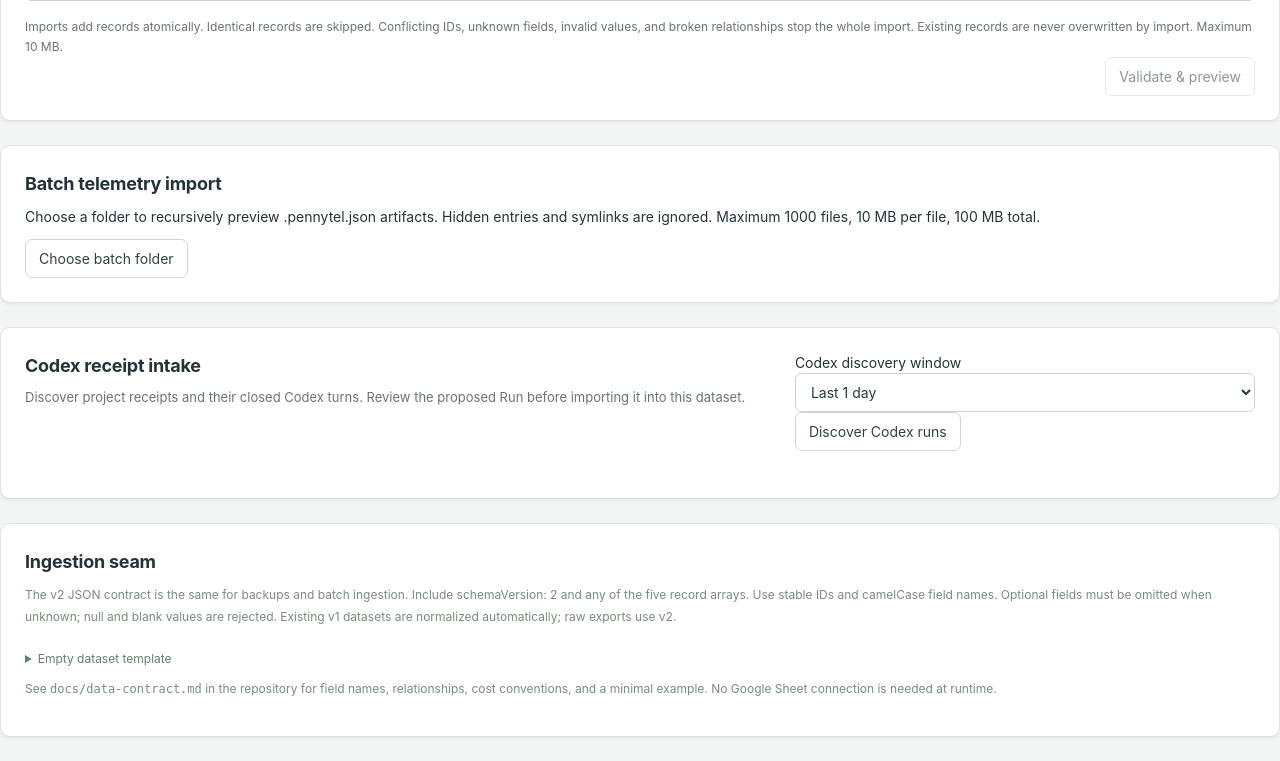
Scenario: offers only 1/3/5 days and keeps the reviewed window when the selector changes
(page scrolled)
Expected: the dropdown labelled "Codex discovery window" shows "Last 1 day", [795,373,1255,412]
Click the button "Discover Codex runs".
click(878, 431)  # box [795,412,961,451]
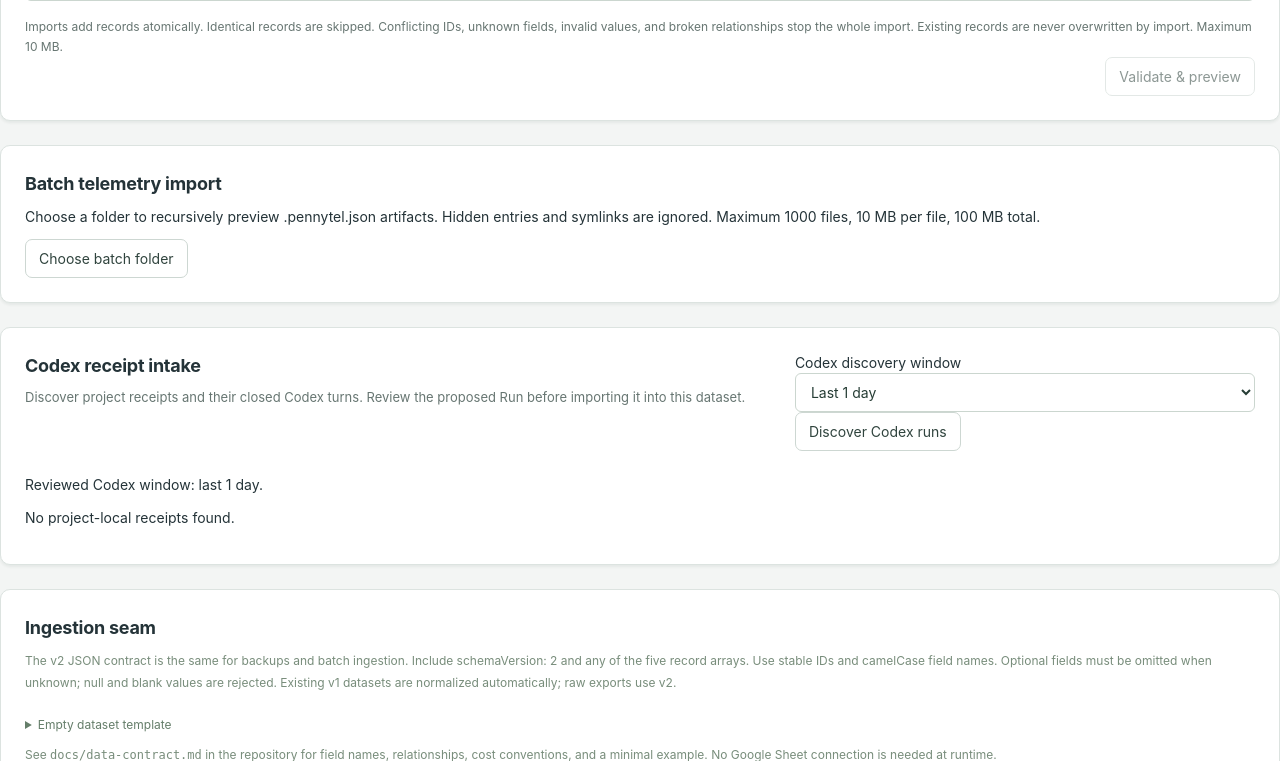
Select "Last 3 days" in the dropdown labelled "Codex discovery window" at (1025, 392), box [795,373,1255,412]
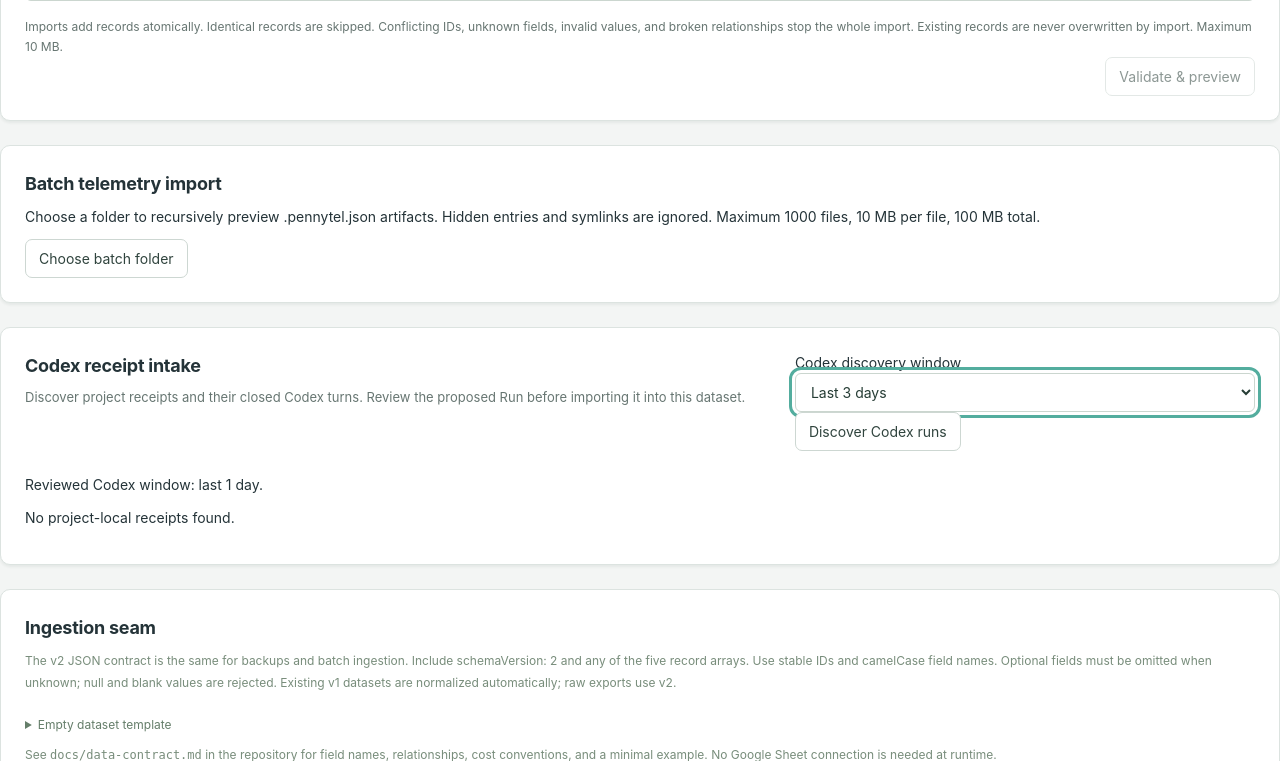
Now the text "Reviewed Codex window: last 1 day." is shown, box [25,476,263,493]
Click the button "Discover Codex runs".
click(878, 431)  # box [795,412,961,451]
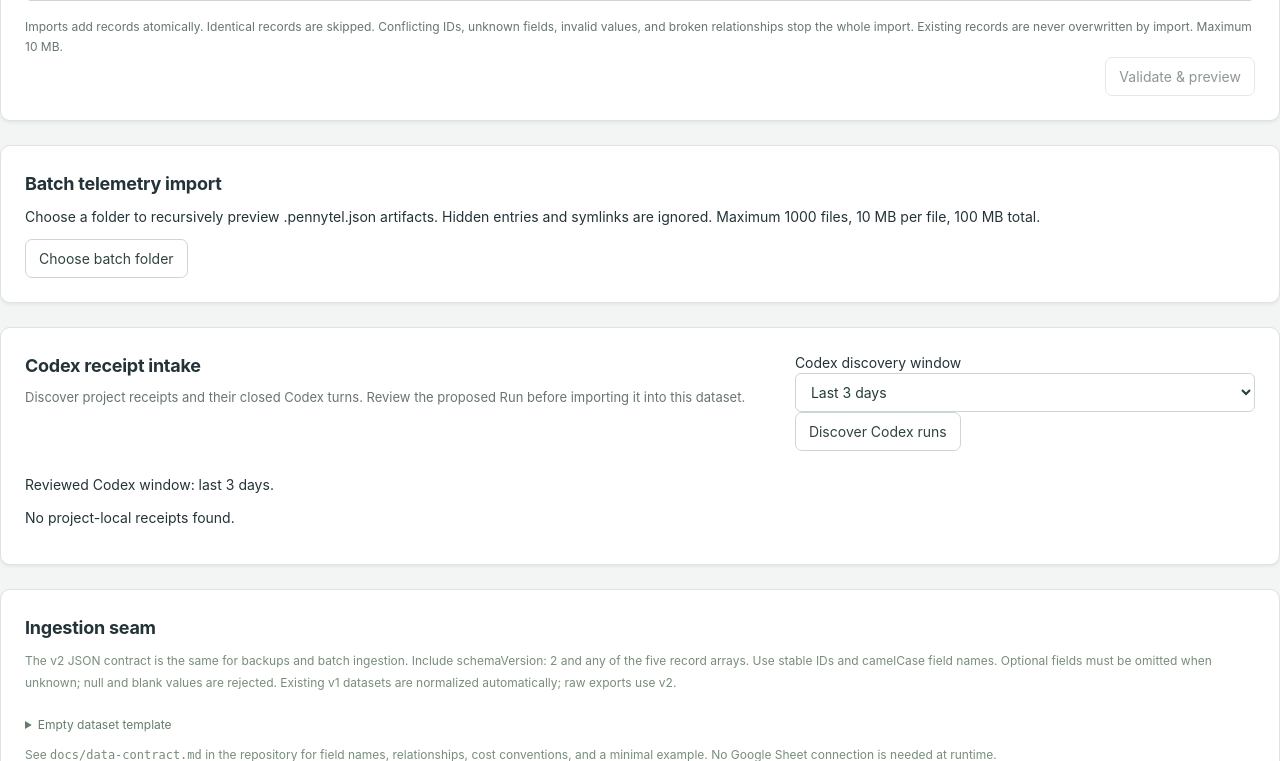
Now the text "Reviewed Codex window: last 3 days." is shown, box [25,476,274,493]
Select "Last 5 days" in the dropdown labelled "Codex discovery window" at (1025, 392), box [795,373,1255,412]
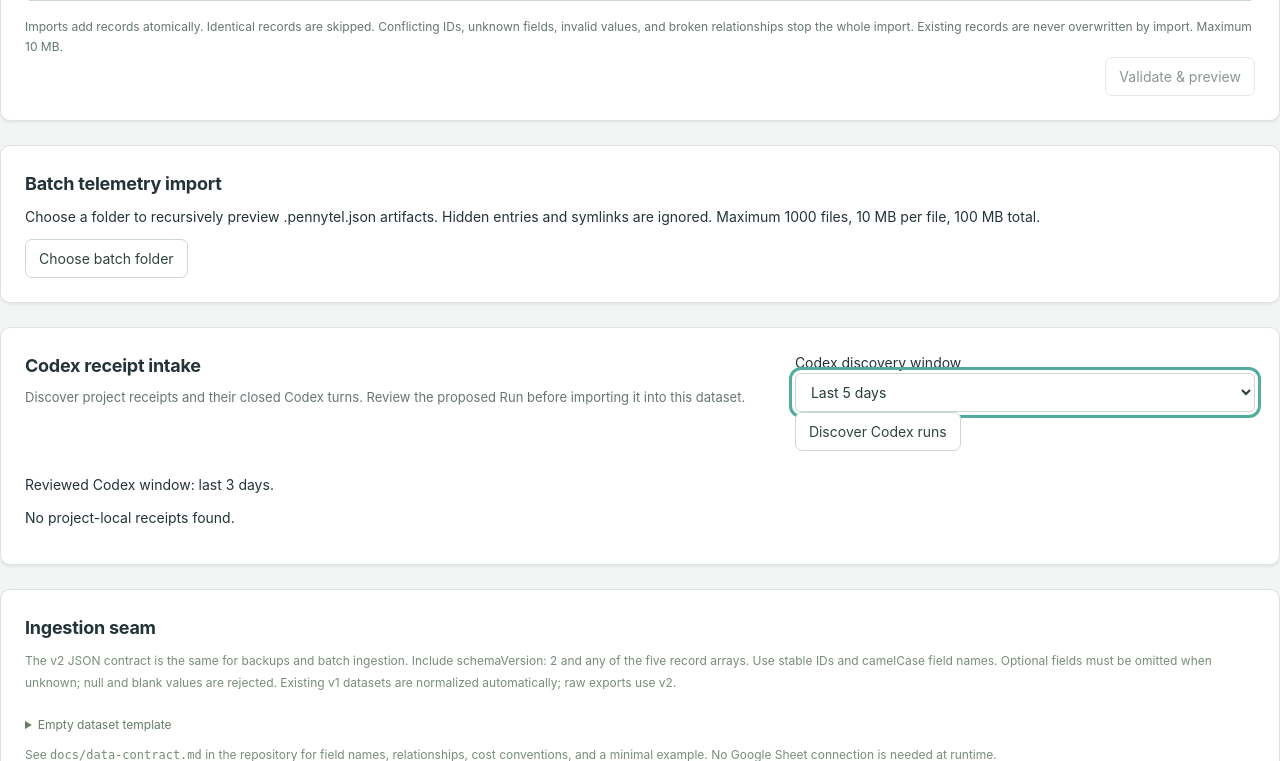
Click the button "Discover Codex runs".
click(878, 431)  # box [795,412,961,451]
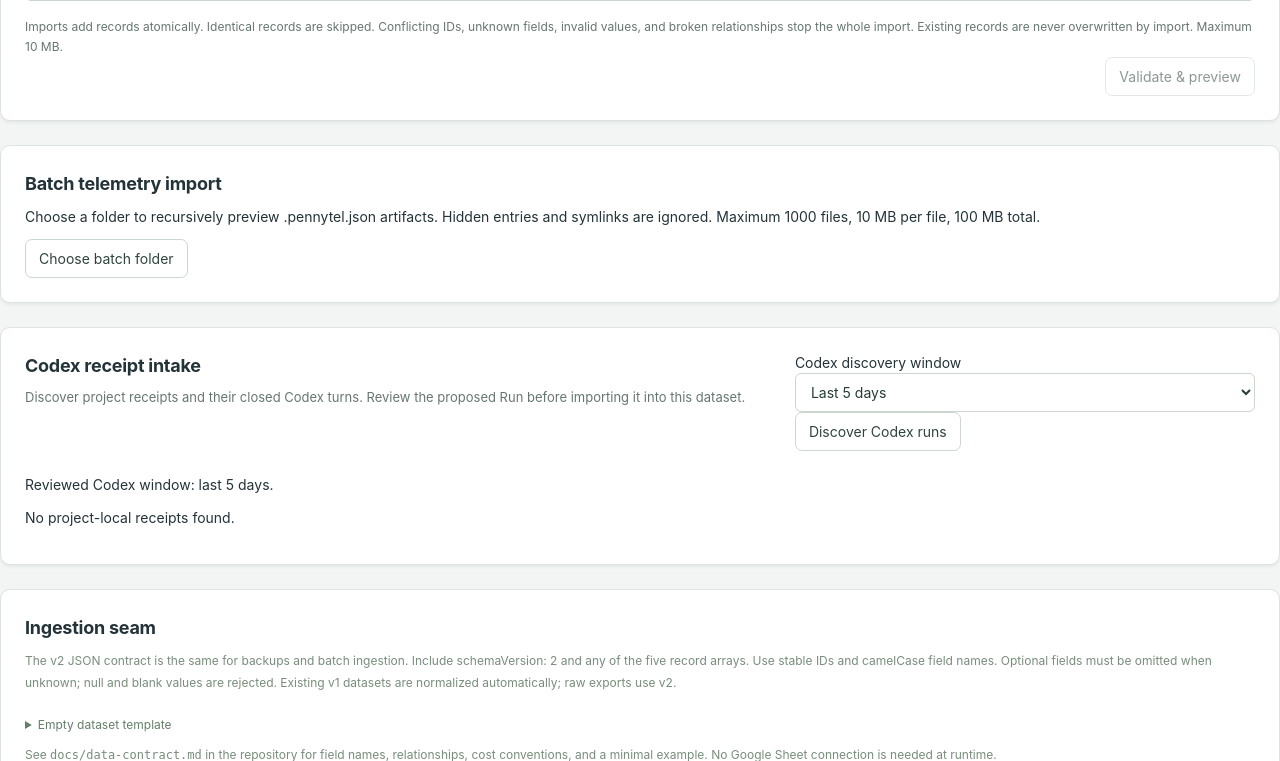
Now the text "Reviewed Codex window: last 5 days." is shown, box [25,476,274,493]
